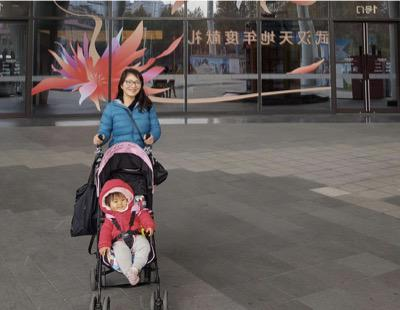without_mask: (123, 76, 141, 94), (111, 192, 127, 210)
